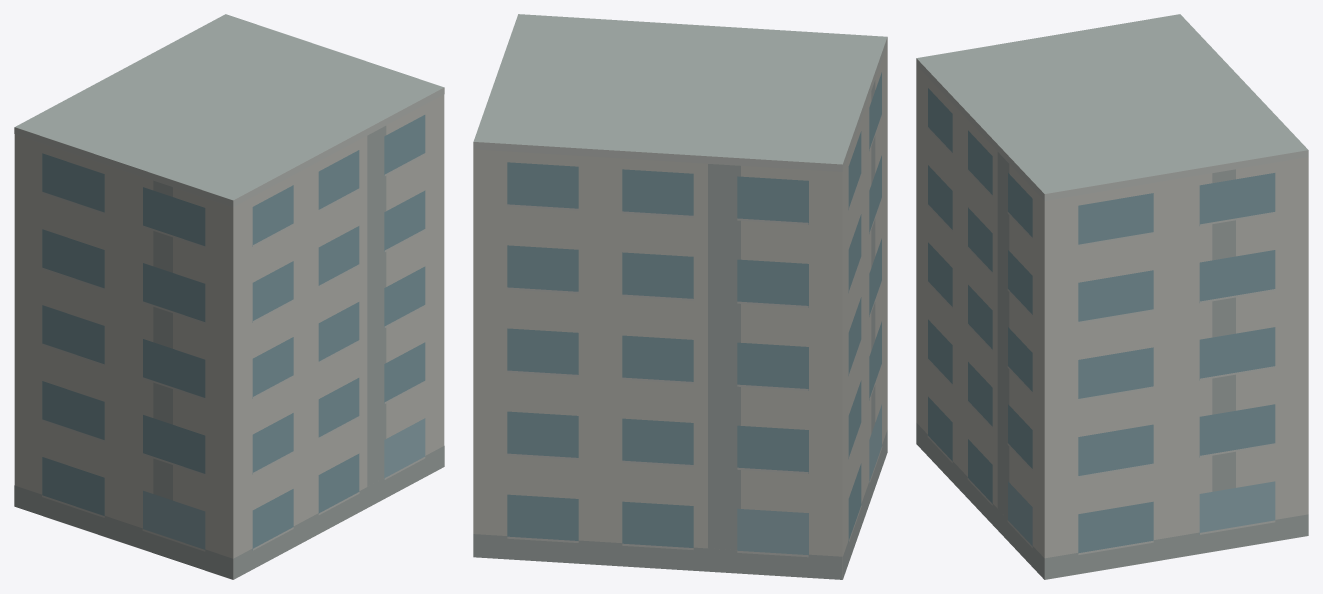
File: survey-upis-32920228.glb
3 views of the same model, side by side, from view 1: azimuth 30°, elevation 25°; view 2: azimuth 150°, elevation 25°; view 3: azimuth 270°, elevation 25° (orthographic). The views are drawn at different scales.
Visible parts, largest first — view 1: survey-upis-32920228.tmp; view 2: survey-upis-32920228.tmp; view 3: survey-upis-32920228.tmp.
Boxes of the visible parts, <box> form: survey-upis-32920228.tmp: <box>14,14,444,579</box>; survey-upis-32920228.tmp: <box>473,14,887,579</box>; survey-upis-32920228.tmp: <box>916,14,1308,579</box>.
Size of the model in its own units: 13.33 by 13.3 by 12.27.
